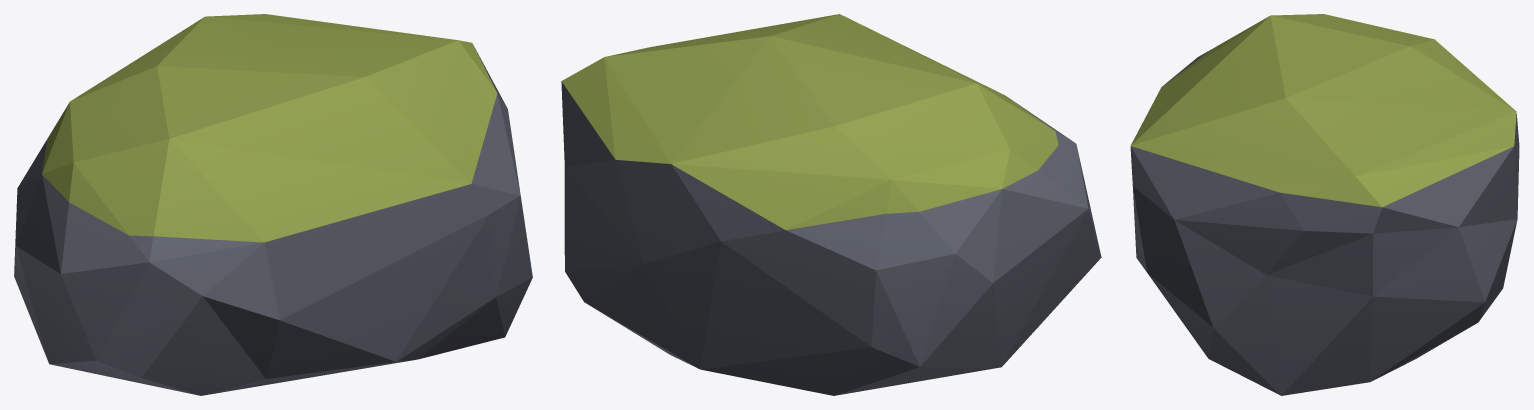
File: Rockwithgrass_03.fbx
3 views of the same model, side by side, from view 1: azimuth 30°, elevation 25°; view 2: azimuth 150°, elevation 25°; view 3: azimuth 270°, elevation 25° (orthographic). The views are drawn at different scales.
Visible parts, largest first — view 1: Rockwithgrass_03; view 2: Rockwithgrass_03; view 3: Rockwithgrass_03.
Boxes of the visible parts, x1,y1,x2,y2 form: Rockwithgrass_03: (14, 14, 532, 395); Rockwithgrass_03: (561, 14, 1101, 395); Rockwithgrass_03: (1130, 14, 1519, 395).
Bounding box in the file's own units: 5.93 × 3.35 × 4.77.
